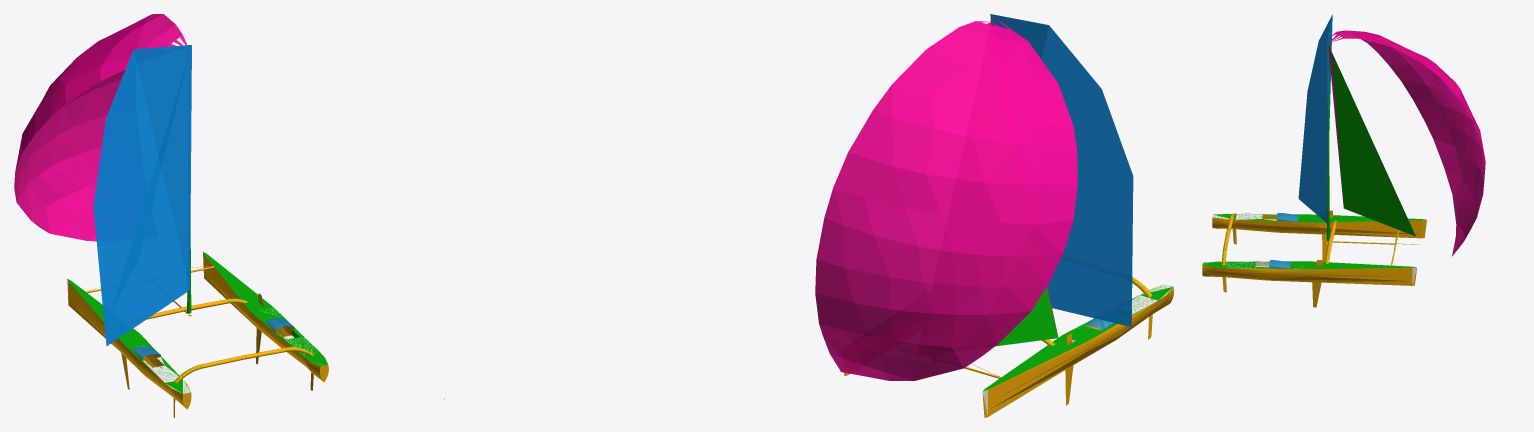
The model's file is genak_tribord_catamaran.dae.
3 views of the same model, side by side, from view 1: azimuth 30°, elevation 25°; view 2: azimuth 150°, elevation 25°; view 3: azimuth 270°, elevation 25° (orthographic). The views are drawn at different scales.
Visible parts, largest first — view 1: SketchUp (×7); view 2: SketchUp (×5); view 3: SketchUp (×10).
Boxes of the visible parts, box(x1,y1,x2,y2) form: SketchUp (×7): box(14, 14, 328, 409); SketchUp (×5): box(815, 14, 1173, 417); SketchUp (×10): box(1202, 14, 1485, 285).
Size of the model in its own units: 203344 by 156303 by 138178.
Materials: 14 (5 with a texture image).
